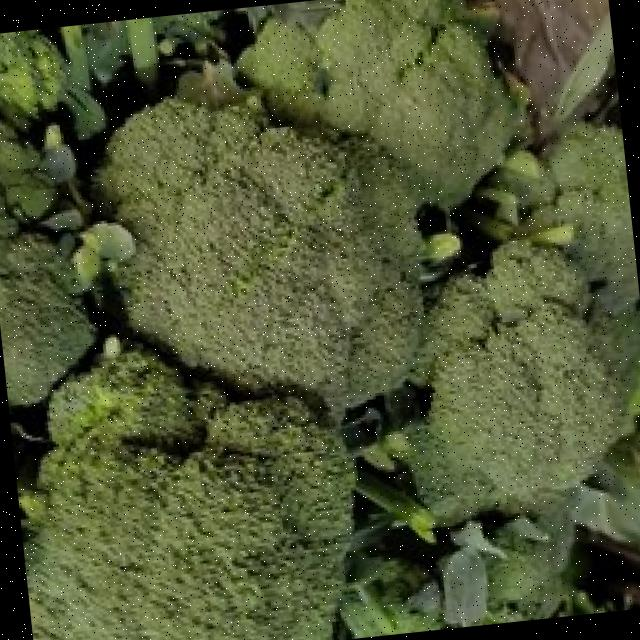Broccoli: (97, 98, 421, 410), (97, 100, 421, 411), (22, 347, 353, 640), (22, 348, 353, 640), (410, 240, 622, 524), (409, 240, 619, 524), (237, 0, 517, 203), (238, 0, 516, 203), (0, 194, 92, 403), (547, 121, 639, 301), (547, 122, 639, 300), (0, 232, 93, 404)
